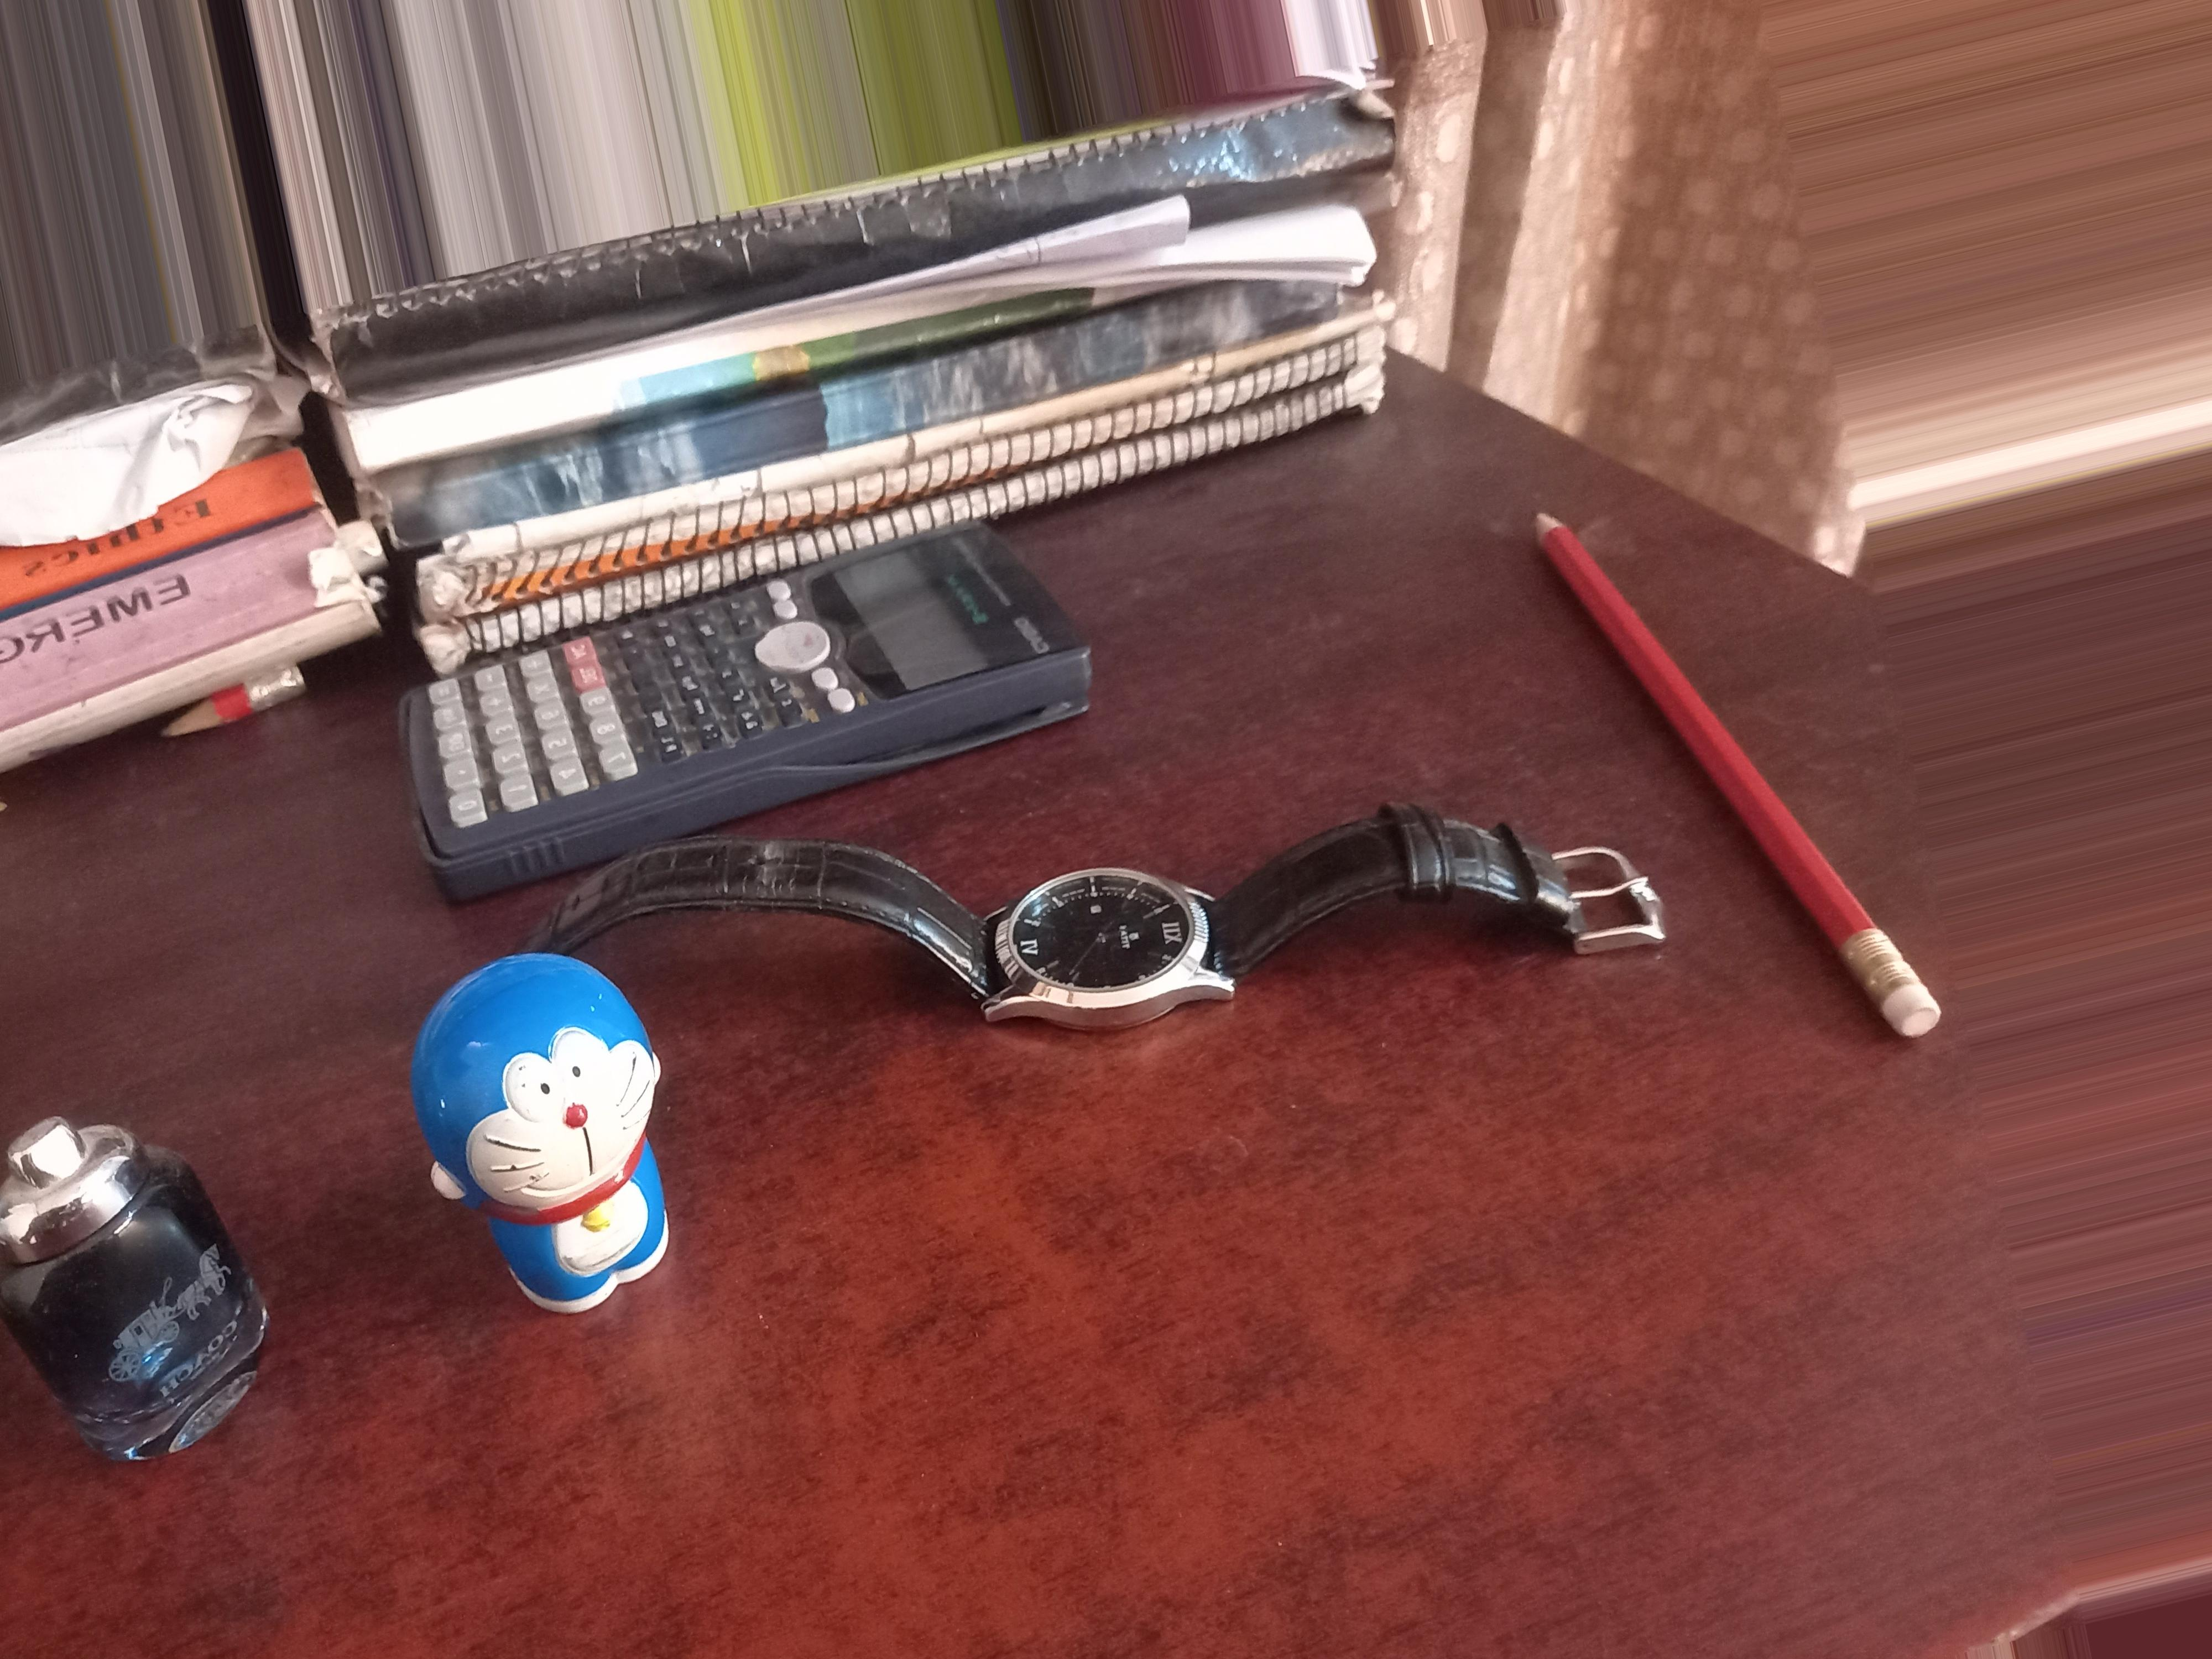calculator: (442, 647, 665, 814)
doraemon: (402, 992, 698, 1206)
pencil: (1723, 730, 1961, 1058)
perfume: (19, 1124, 273, 1384)
watch: (995, 843, 1224, 1019)
